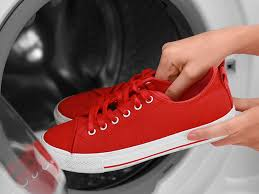Shoes: (40, 65, 234, 174)
